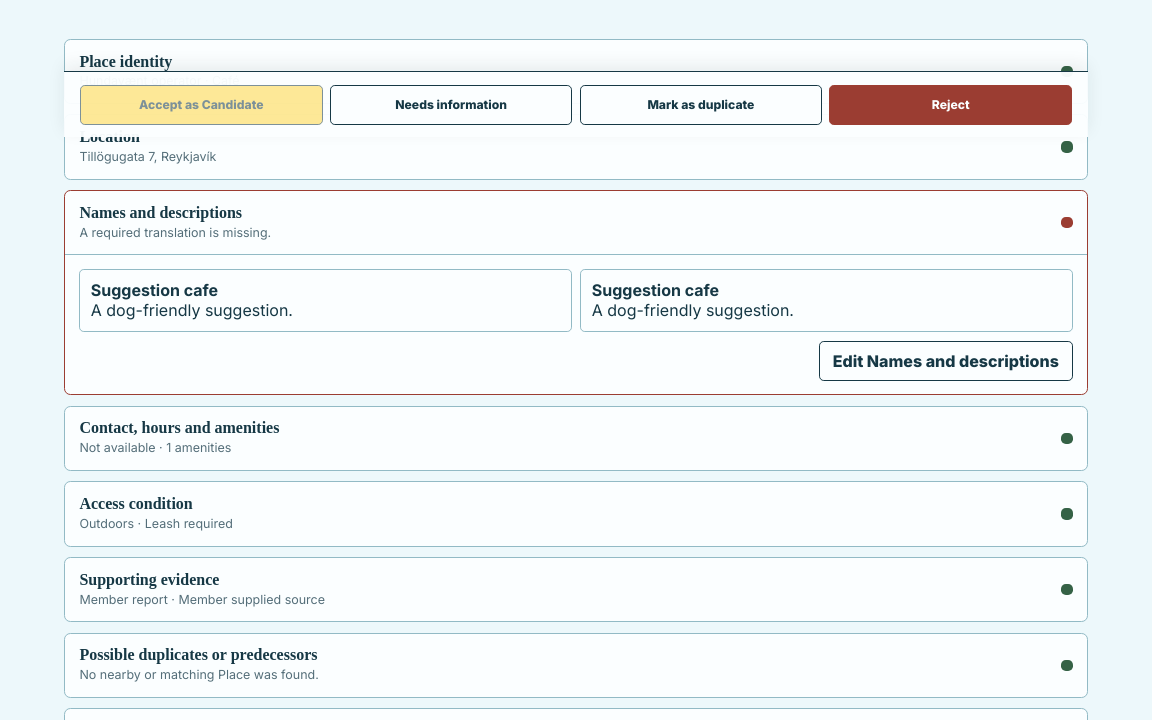
Moderator Suggestion workflow › requires a moderator to supply the missing locale instead of publishing copied text
(page scrolled)
Expected: the button "Accept as Candidate" is disabled, left=80, top=84, right=323, bottom=124
Click the button "Edit Names and descriptions" at (946, 361), box left=819, top=341, right=1073, bottom=381
(page scrolled)
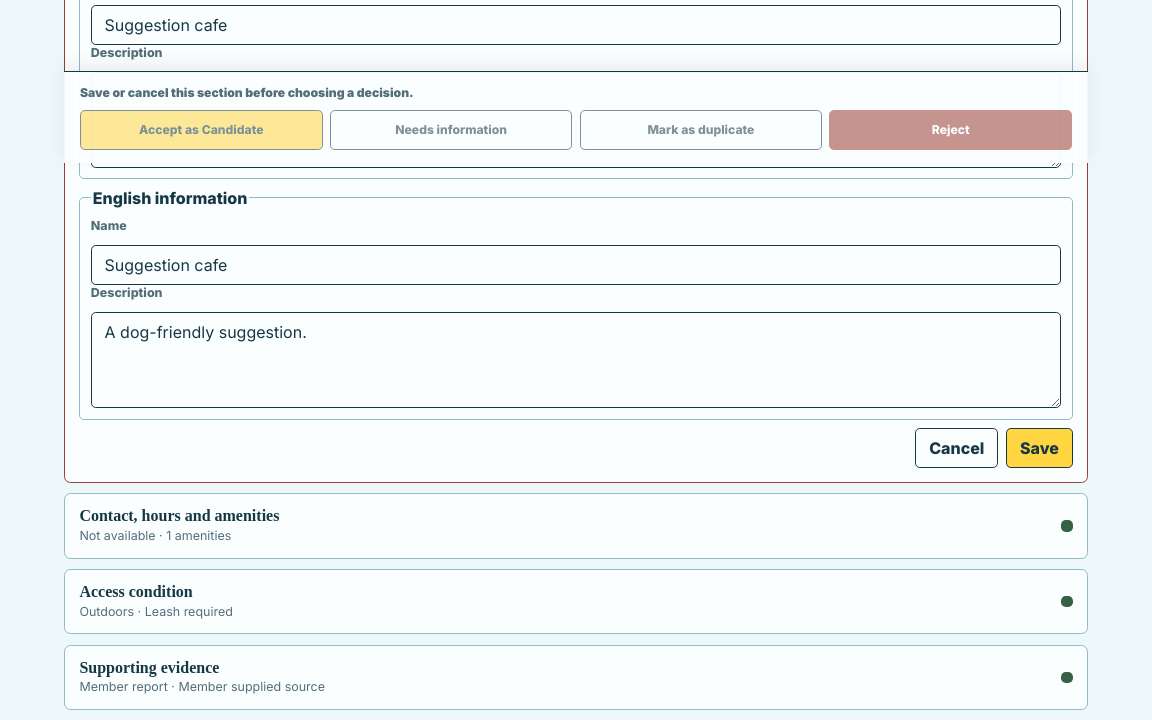
Expected: the field labelled "Name" below "Icelandic information" holds "Suggestion cafe", left=91, top=5, right=1061, bottom=45
Expected: the field labelled "Name" below "English information" holds "Suggestion cafe", left=91, top=245, right=1061, bottom=285
Expected: the text box labelled "Description" below "Icelandic information" is empty, left=91, top=72, right=1061, bottom=168
